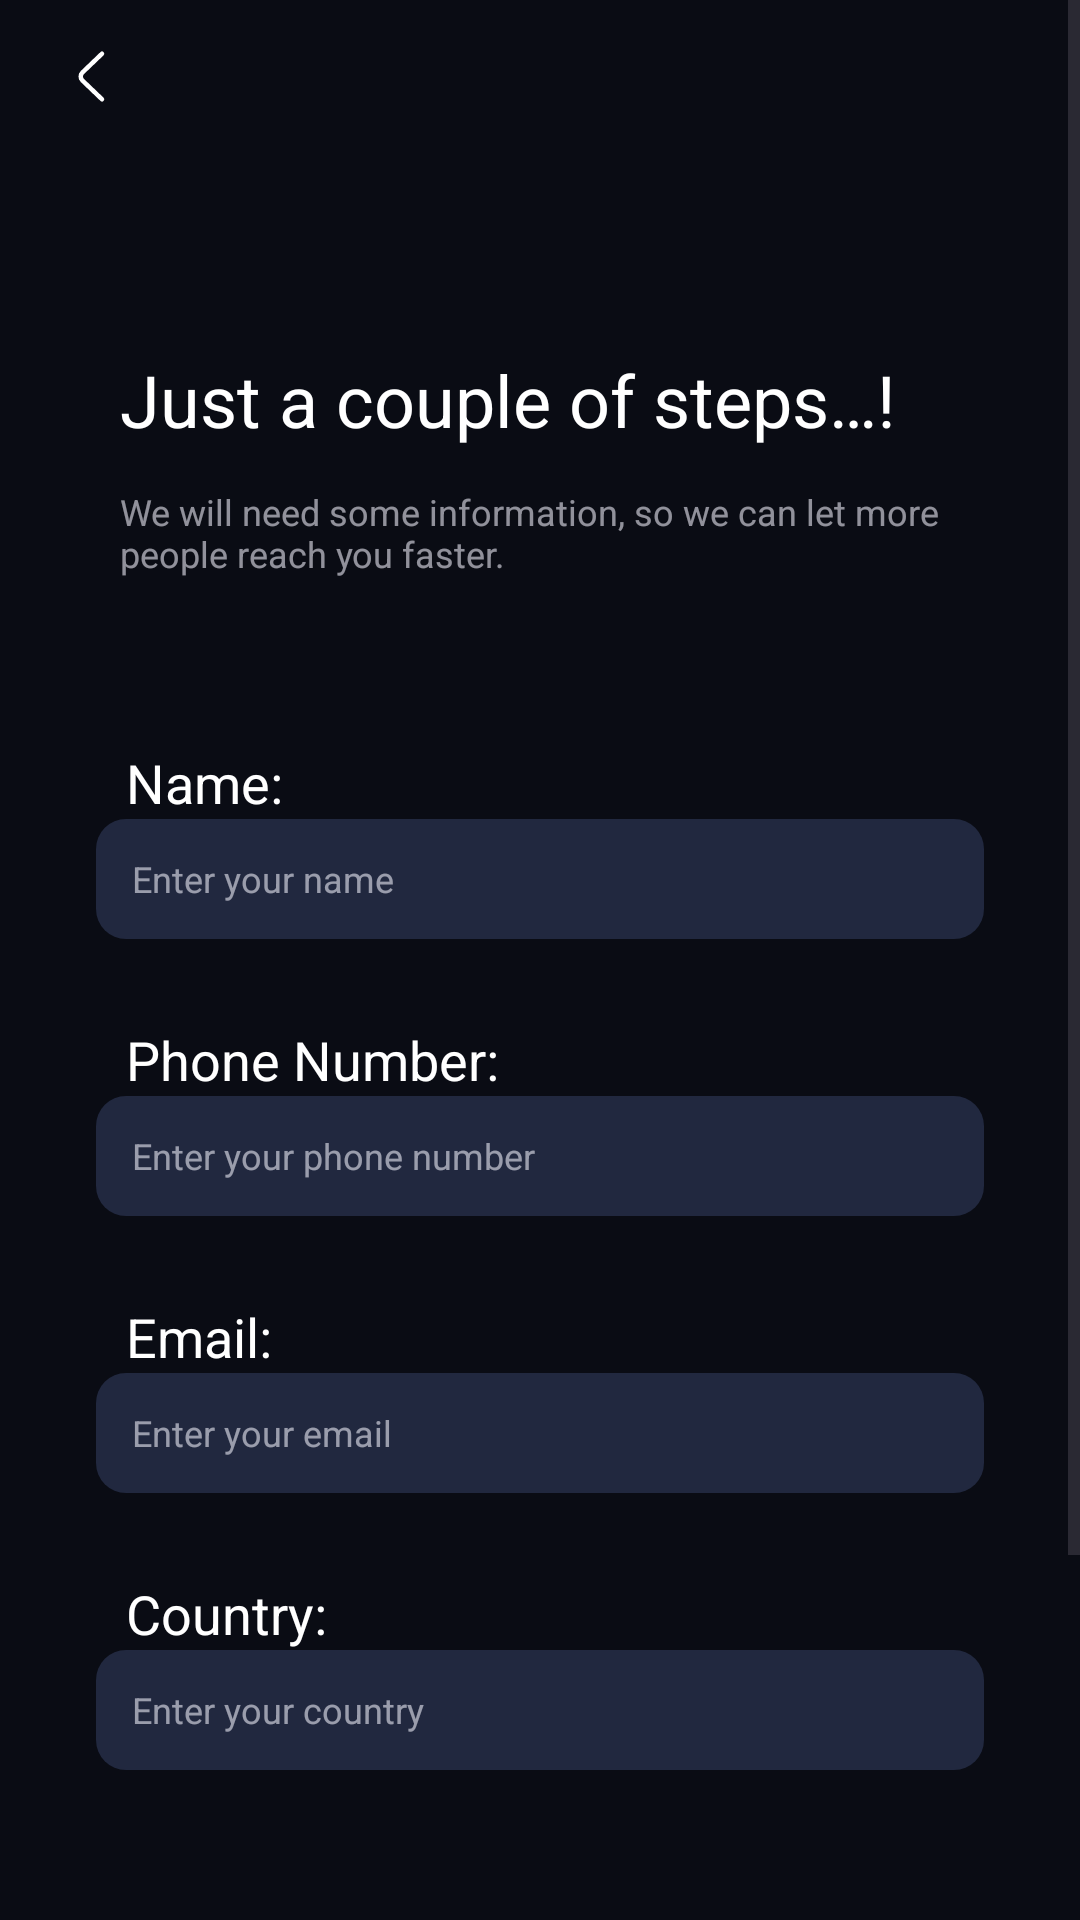

Icons on this 1080px x 1920px Android screen, each with its box as (x1, y1, x2, y2):
back arrow: (78, 51, 105, 102)
